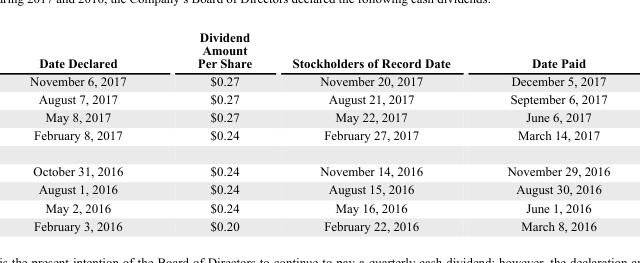table: (29, 29, 609, 232)
table column: (271, 29, 478, 232), (29, 29, 161, 232), (478, 29, 609, 232), (161, 29, 271, 232)
table column header: (29, 29, 609, 71)
table row: (29, 29, 609, 71), (29, 152, 609, 180), (29, 125, 609, 152), (29, 71, 609, 89), (29, 89, 609, 107), (29, 107, 609, 125), (29, 180, 609, 198), (29, 198, 609, 216), (29, 216, 609, 232)
